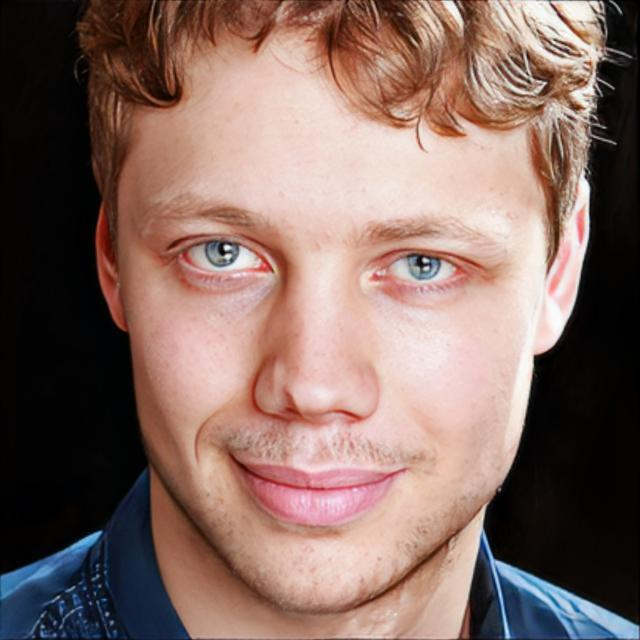content: (115, 0, 550, 618)
